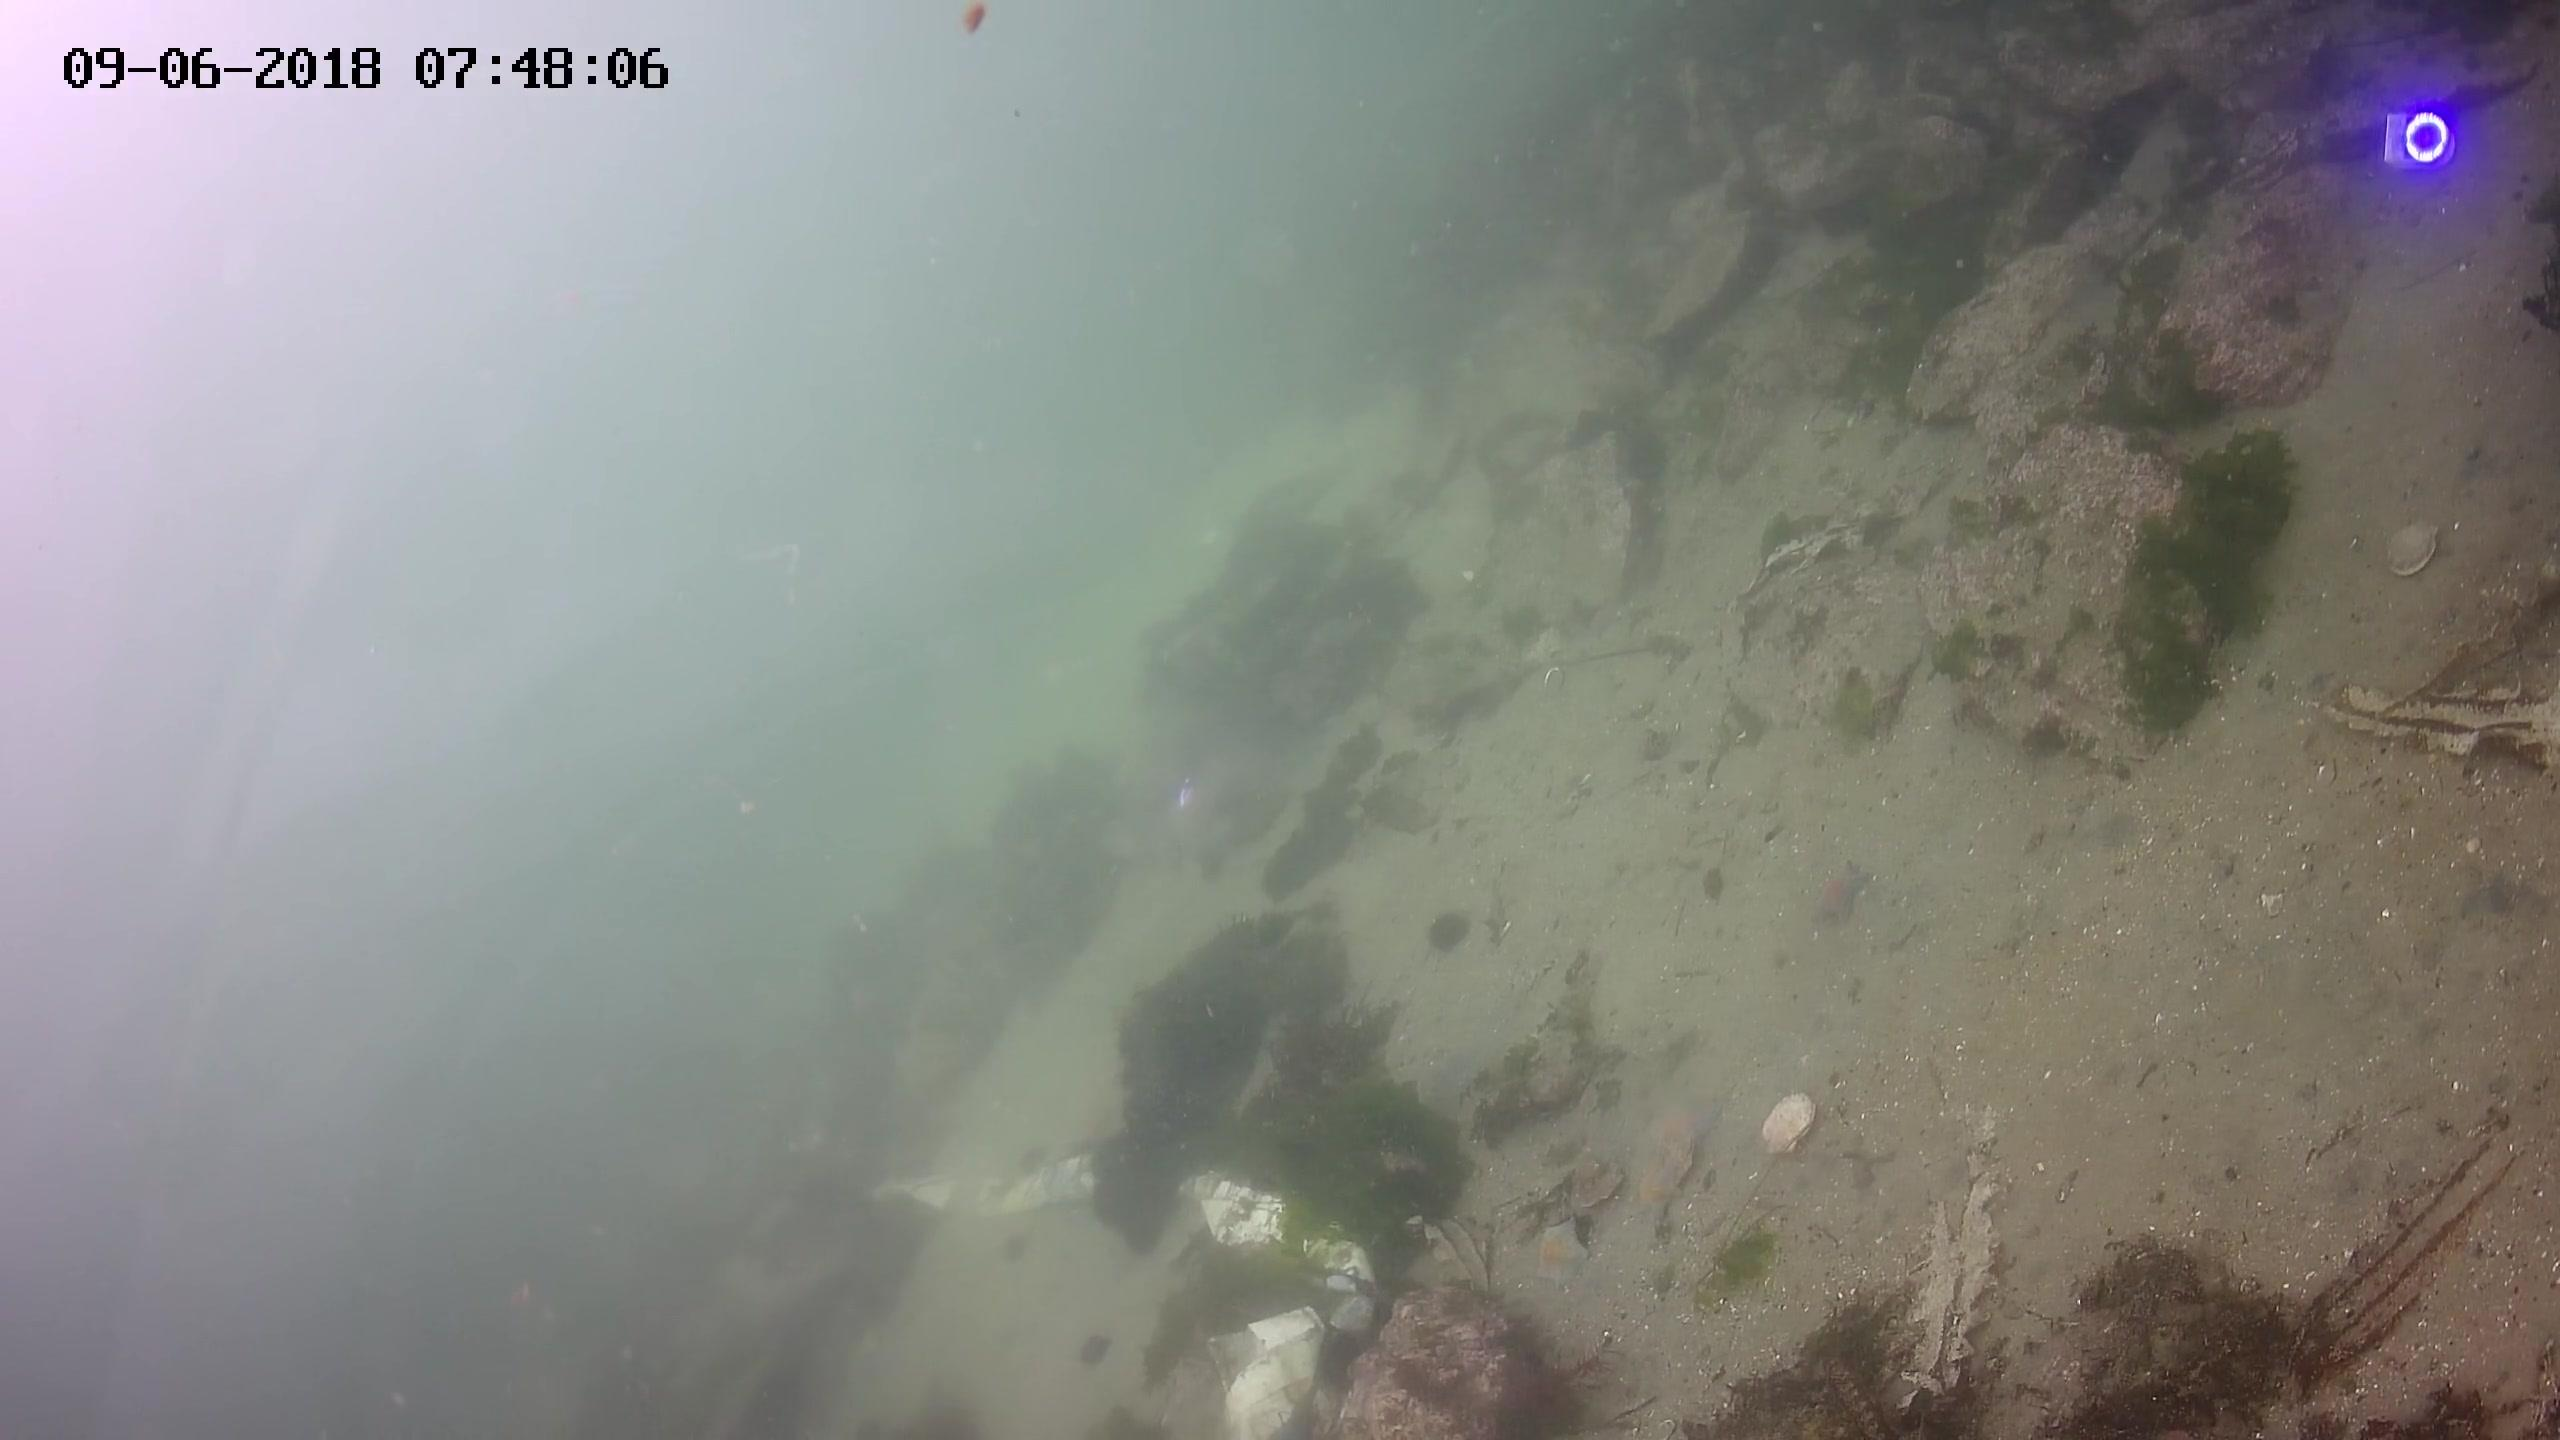scallop: (1755, 1090, 1816, 1155), (1568, 1155, 1625, 1217), (2384, 519, 2440, 577)
starfish: (1642, 1099, 1720, 1157), (1628, 1157, 1688, 1227), (1815, 860, 1874, 927), (1538, 1213, 1588, 1284)
